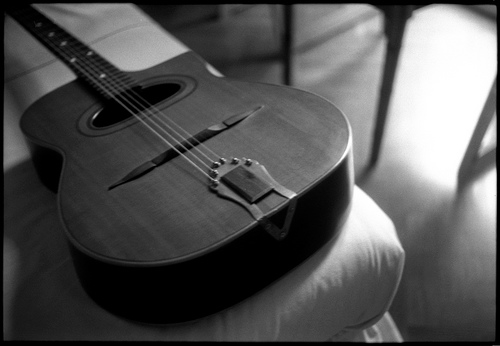guitar: (5, 3, 358, 329)
